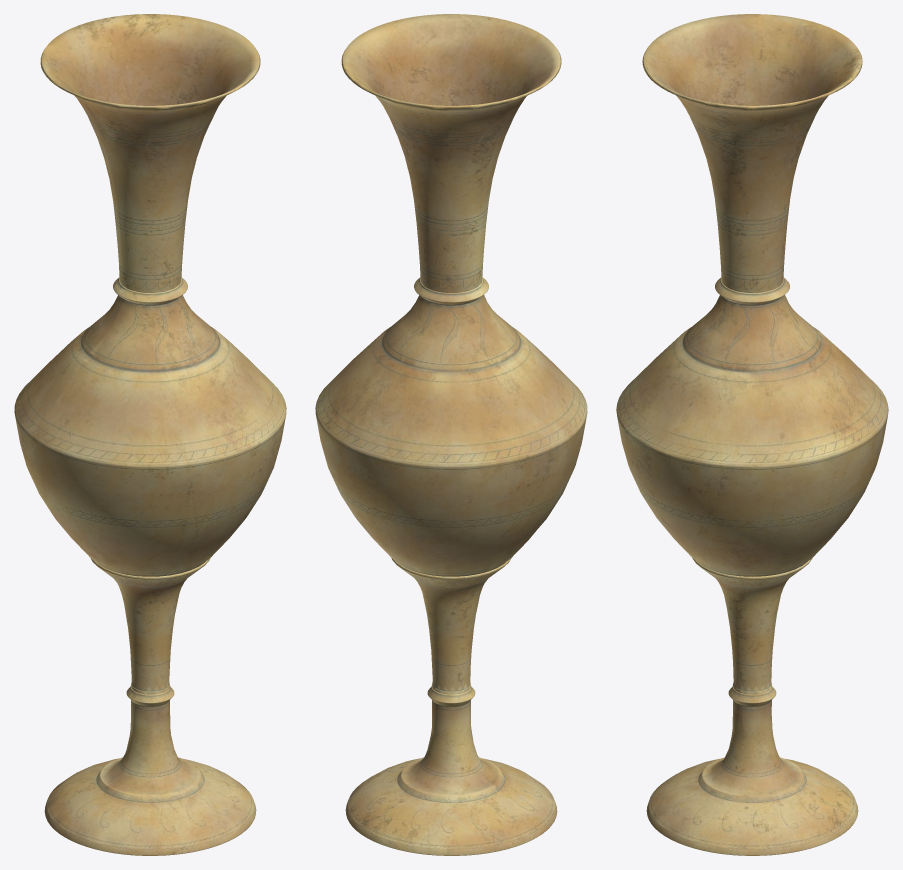
Rendered from brass_vase_01_1k.glb.
The picture shows the model from 3 angles, left to right: view 1: azimuth 30°, elevation 25°; view 2: azimuth 150°, elevation 25°; view 3: azimuth 270°, elevation 25°; orthographic projection.
Visible parts, largest first — view 1: brass_vase_01; view 2: brass_vase_01; view 3: brass_vase_01.
Part boxes in pixels (bbox=[...]): brass_vase_01: bbox=[14, 14, 286, 855]; brass_vase_01: bbox=[315, 14, 587, 855]; brass_vase_01: bbox=[616, 14, 888, 855].
Bounding box in the file's own units: 0.2273 × 0.6925 × 0.2273.
Materials: 1 (1 with a texture image).
